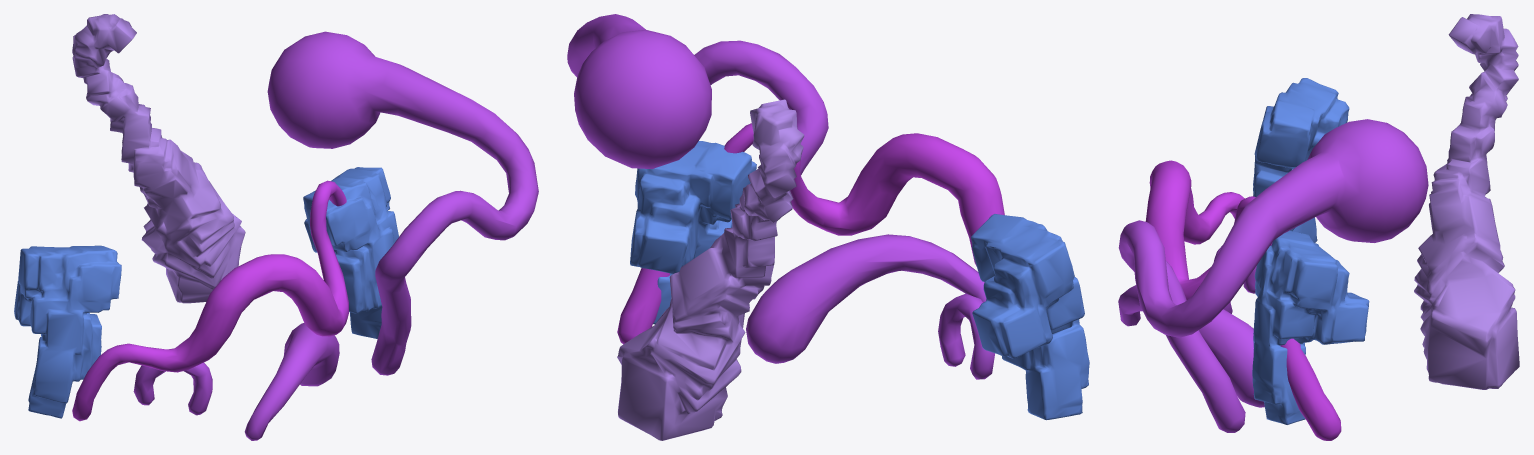
The model's file is flooritems.glb.
3 views of the same model, side by side, from view 1: azimuth 30°, elevation 25°; view 2: azimuth 150°, elevation 25°; view 3: azimuth 270°, elevation 25° (orthographic). The views are drawn at different scales.
Parts seen in each view (by area): view 1: Retopo_Layer_6, Retopo_Layer_20, Retopo_Layer_5.001, Retopo_Layer_19.002, Retopo_Layer_19.001; view 2: Retopo_Layer_6, Retopo_Layer_20, Retopo_Layer_19.002, Retopo_Layer_5.001, Retopo_Layer_19.001; view 3: Retopo_Layer_6, Retopo_Layer_20, Retopo_Layer_19.001, Retopo_Layer_5.001, Retopo_Layer_19.002.
Part boxes in pixels (x1,y1,x2,y2): Retopo_Layer_6: (133,31,538,440); Retopo_Layer_20: (72,14,245,303); Retopo_Layer_5.001: (72,180,348,421); Retopo_Layer_19.002: (14,245,121,418); Retopo_Layer_19.001: (303,167,398,338); Retopo_Layer_6: (567,14,994,379); Retopo_Layer_20: (617,99,804,440); Retopo_Layer_19.002: (971,214,1089,420); Retopo_Layer_5.001: (617,123,1004,344); Retopo_Layer_19.001: (630,141,756,324); Retopo_Layer_6: (1118,119,1428,432); Retopo_Layer_20: (1414,14,1519,389); Retopo_Layer_19.001: (1252,230,1369,424); Retopo_Layer_5.001: (1145,160,1341,440); Retopo_Layer_19.002: (1253,78,1349,242).
Bounding box in the file's own units: 27.52 × 17.67 × 19.14.
